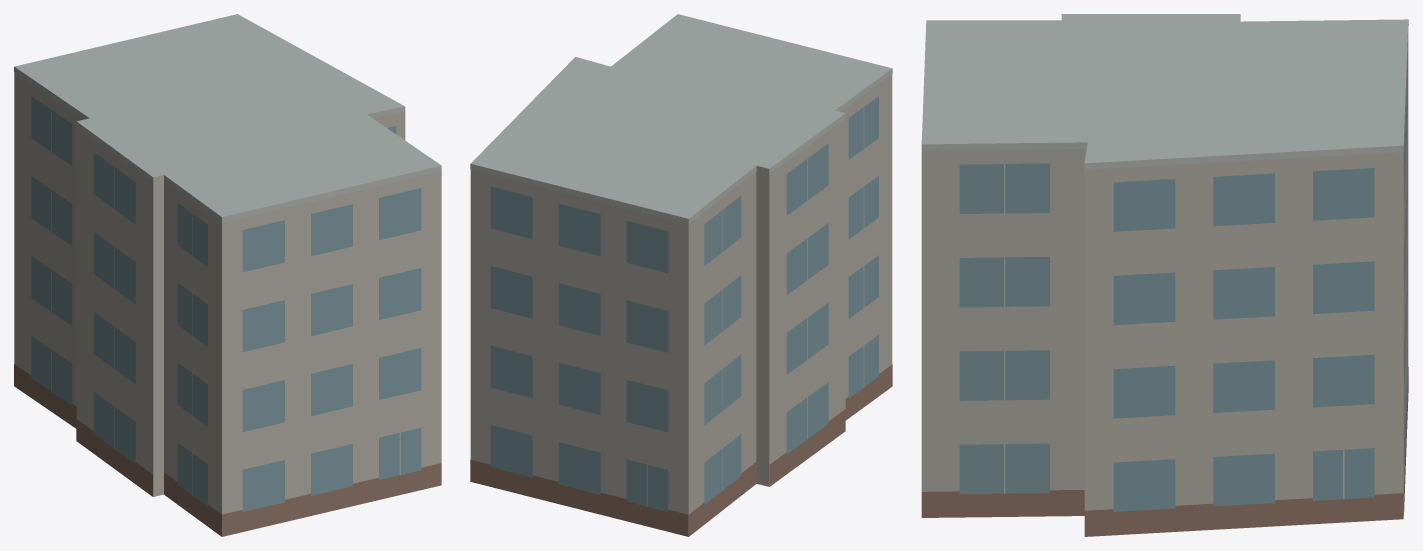
File: survey-upis-33016306.glb
3 views of the same model, side by side, from view 1: azimuth 30°, elevation 25°; view 2: azimuth 150°, elevation 25°; view 3: azimuth 270°, elevation 25° (orthographic). The views are drawn at different scales.
Visible parts, largest first — view 1: survey-upis-33016306.tmp; view 2: survey-upis-33016306.tmp; view 3: survey-upis-33016306.tmp.
Part boxes in pixels (box(x1,y1,x2,y2)): survey-upis-33016306.tmp: box(14, 14, 441, 536); survey-upis-33016306.tmp: box(470, 14, 892, 536); survey-upis-33016306.tmp: box(921, 14, 1408, 536).
Bounding box in the file's own units: 12.1 × 14.1 × 16.66.
